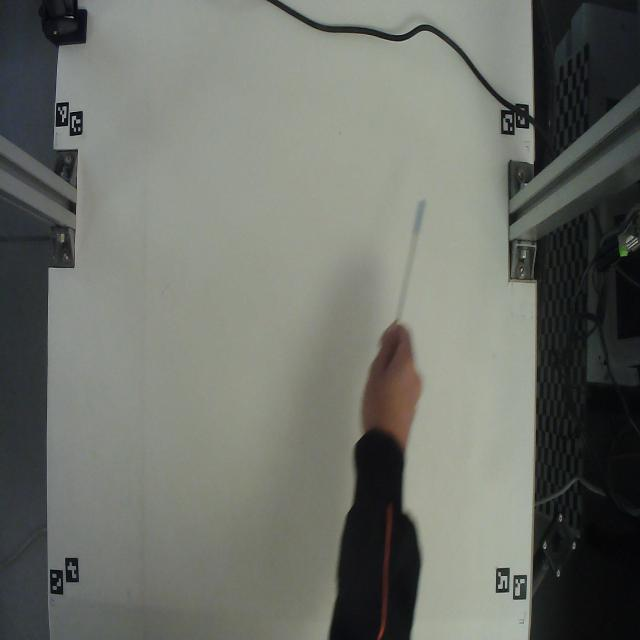NoPres: (388, 186, 434, 335)
